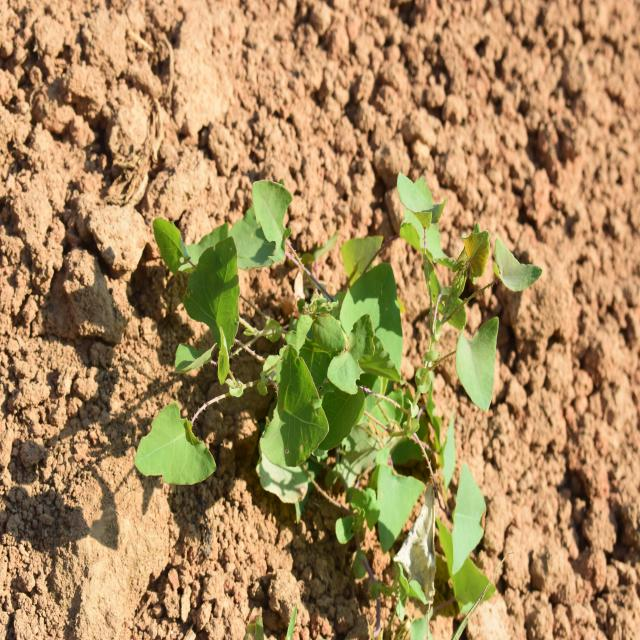Asiatic_Smartweed: (153, 193, 398, 477), (389, 182, 537, 418)
